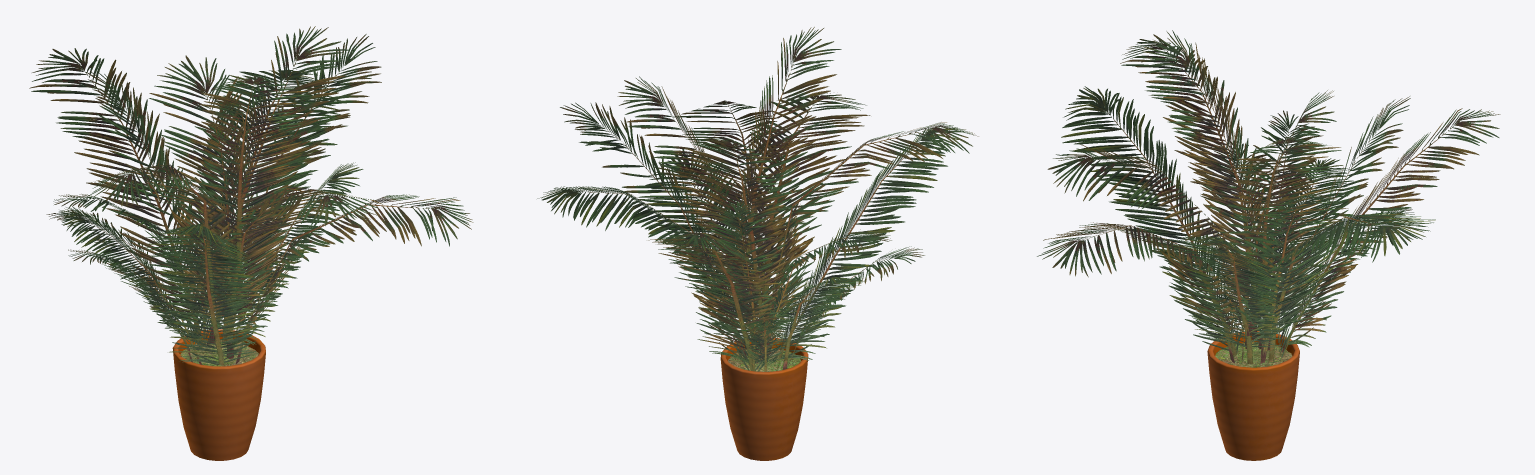
The model's file is MB_Pot_Flower_07.fbx.
3 renders of one model, left to right at view 1: azimuth 30°, elevation 25°; view 2: azimuth 150°, elevation 25°; view 3: azimuth 270°, elevation 25°, orthographic. The views are drawn at different scales.
Visible parts, largest first — view 1: MB_Pot_Flower_07_LOD0; view 2: MB_Pot_Flower_07_LOD0; view 3: MB_Pot_Flower_07_LOD0.
Boxes of the visible parts, left/top/right/bottom form: MB_Pot_Flower_07_LOD0: left=29, top=26, right=473, bottom=460; MB_Pot_Flower_07_LOD0: left=537, top=27, right=978, bottom=460; MB_Pot_Flower_07_LOD0: left=1037, top=30, right=1500, bottom=460.
Size of what is drawn, in the model's own units: 257 by 276 by 292.
